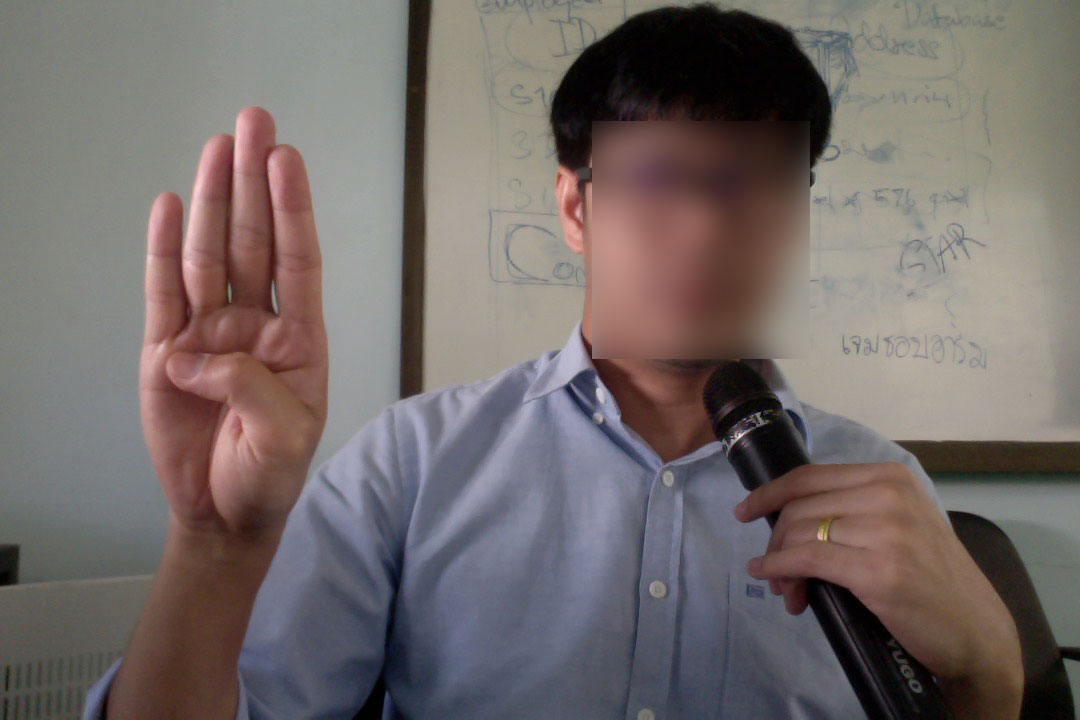bor: (133, 96, 337, 543)
